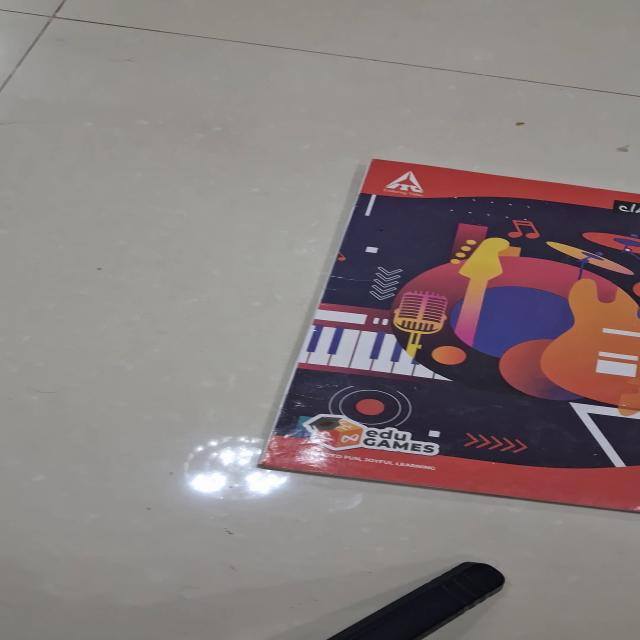paper: (256, 158, 638, 512)
